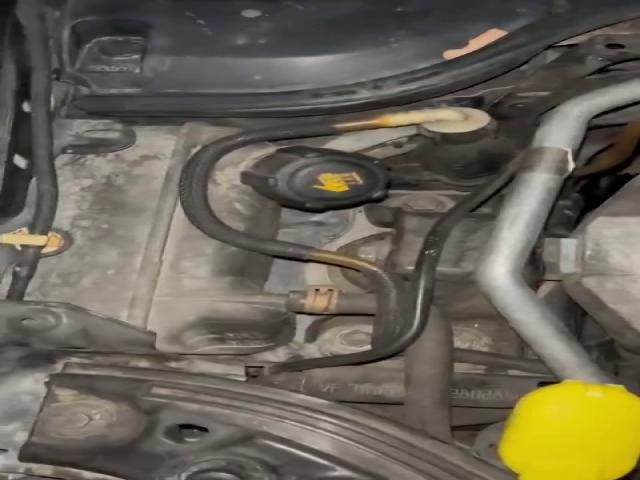antifreeze_tank: (33, 123, 294, 354), (208, 142, 389, 238)
